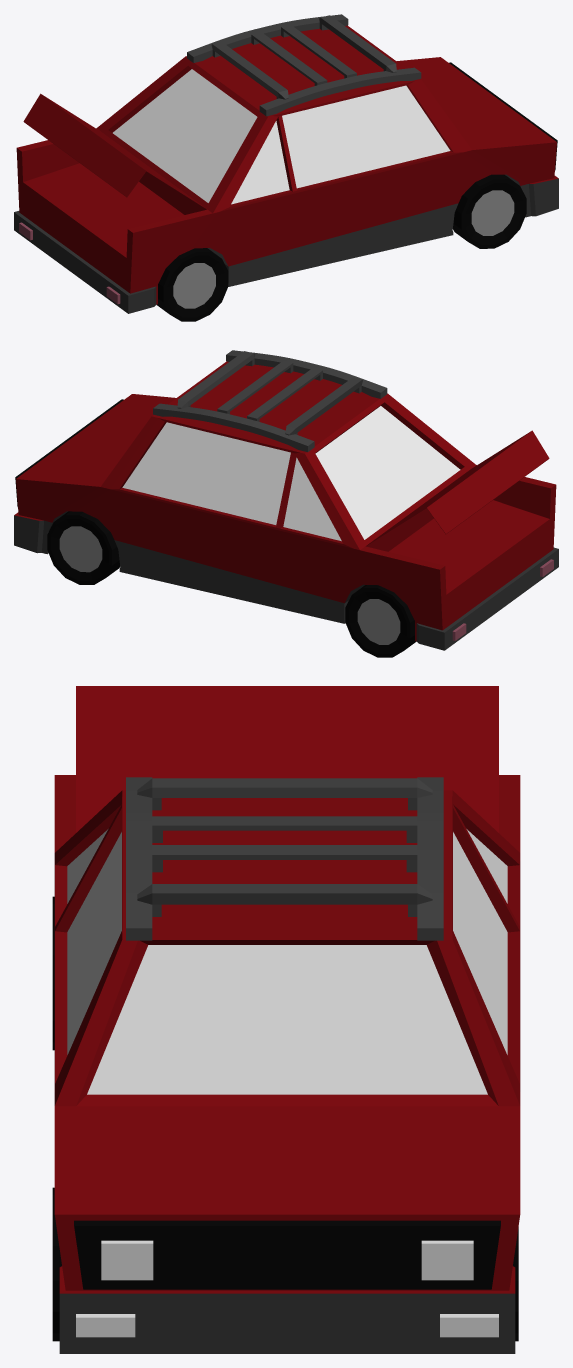
Rendered from car.fbx.
3 renders of one model, top to bottom at view 1: azimuth 30°, elevation 25°; view 2: azimuth 150°, elevation 25°; view 3: azimuth 270°, elevation 25°, orthographic. The views are drawn at different scales.
Visible parts, largest first — view 1: CarChasis.001, CarTrunk.001, WheelFrontRight.001, WheelBackRight.001; view 2: CarChasis.001, CarTrunk.001, WheelFrontLeft.001, WheelBackLeft.001; view 3: CarChasis.001, CarTrunk.001, WheelFrontRight.001.
Boxes of the visible parts, box(x1,y1,x2,y2) form: CarChasis.001: box(14, 14, 558, 313); CarTrunk.001: box(23, 93, 206, 209); WheelFrontRight.001: box(453, 174, 526, 248); WheelBackRight.001: box(156, 248, 228, 321); CarChasis.001: box(14, 350, 558, 650); CarTrunk.001: box(366, 430, 549, 545); WheelFrontLeft.001: box(47, 511, 120, 584); WheelBackLeft.001: box(345, 585, 416, 657); CarChasis.001: box(54, 775, 520, 1353); CarTrunk.001: box(76, 686, 498, 832); WheelFrontRight.001: box(52, 1187, 61, 1341).
Size of the model in its own units: 376 by 173 by 151.
